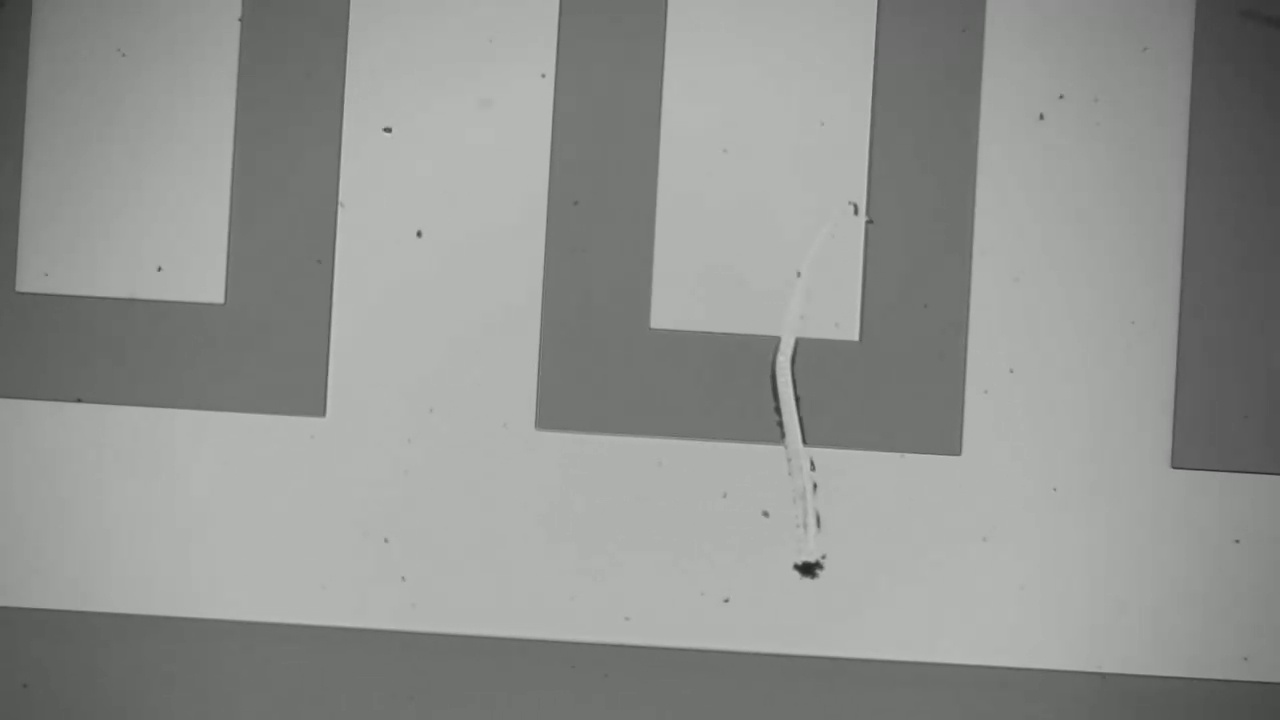Short_circuit: (749, 325, 827, 462)
